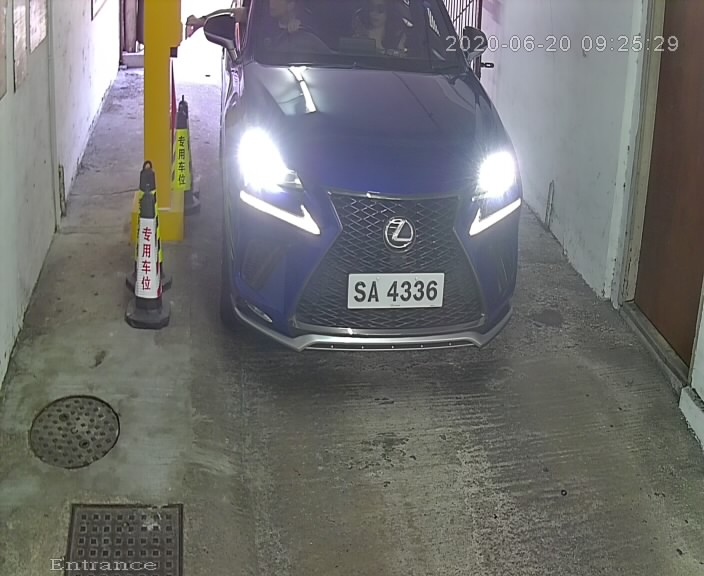privatecar: (203, 3, 522, 358)
